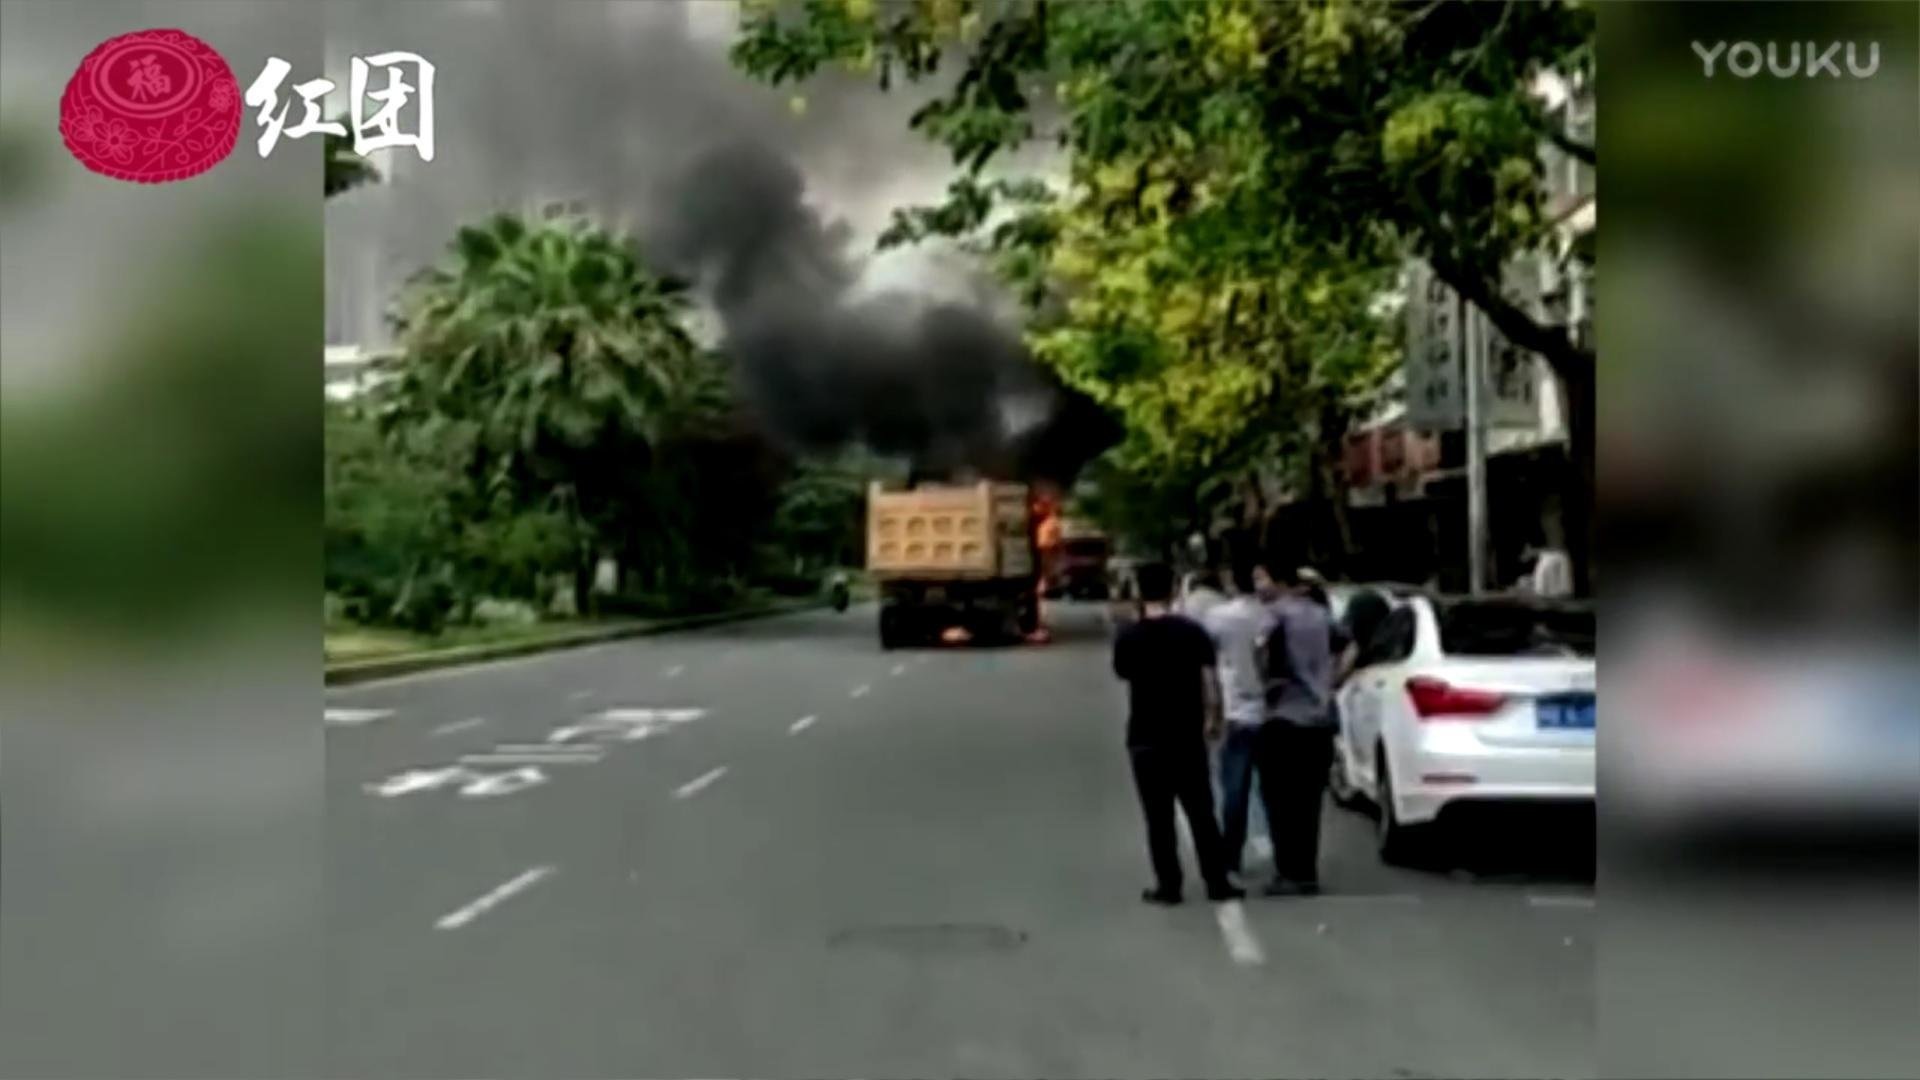fire: (1029, 491, 1065, 549)
